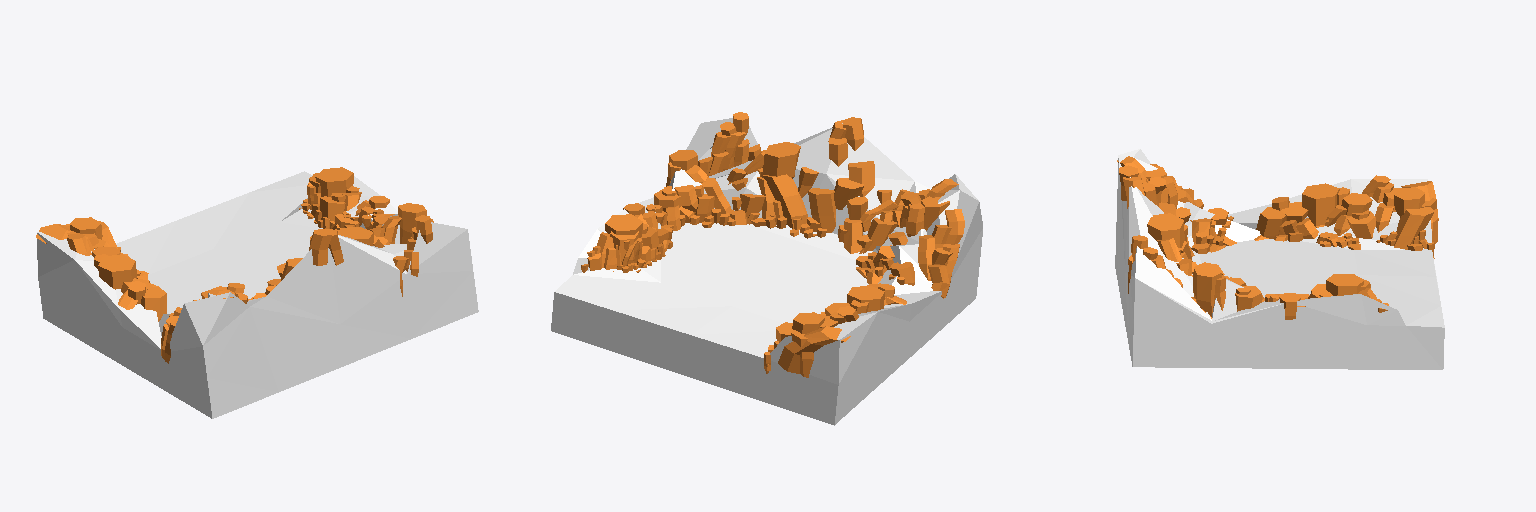
3 views of the same model, side by side, from view 1: azimuth 30°, elevation 25°; view 2: azimuth 150°, elevation 25°; view 3: azimuth 270°, elevation 25° (orthographic).
Parts seen in each view (by area): view 1: group[number redacted], group[number redacted], group[number redacted], group[number redacted], group[number redacted], group[number redacted]; view 2: group[number redacted], group[number redacted], group[number redacted], group[number redacted], group[number redacted], group[number redacted], group[number redacted], group[number redacted], group[number redacted], group[number redacted], group[number redacted], group[number redacted] (+2 smaller); view 3: group[number redacted], group[number redacted], group[number redacted], group[number redacted], group[number redacted], group[number redacted], group[number redacted], group[number redacted], group[number redacted].
Part boxes in pixels (left/top/right/bottom): group[number redacted]: left=37, top=171, right=478, bottom=418; group[number redacted]: left=98, top=254, right=136, bottom=289; group[number redacted]: left=315, top=167, right=353, bottom=197; group[number redacted]: left=398, top=203, right=426, bottom=243; group[number redacted]: left=309, top=229, right=332, bottom=265; group[number redacted]: left=141, top=287, right=166, bottom=321; group[number redacted]: left=551, top=118, right=982, bottom=425; group[number redacted]: left=778, top=326, right=850, bottom=373; group[number redacted]: left=763, top=174, right=807, bottom=228; group[number redacted]: left=865, top=245, right=914, bottom=285; group[number redacted]: left=762, top=142, right=800, bottom=178; group[number redacted]: left=808, top=188, right=835, bottom=232; group[number redacted]: left=844, top=218, right=872, bottom=253; group[number redacted]: left=847, top=286, right=884, bottom=311; group[number redacted]: left=605, top=214, right=642, bottom=237; group[number redacted]: left=848, top=161, right=874, bottom=196; group[number redacted]: left=834, top=178, right=863, bottom=209; group[number redacted]: left=867, top=218, right=897, bottom=250; group[number redacted]: left=1115, top=149, right=1444, bottom=369; group[number redacted]: left=1302, top=183, right=1339, bottom=227; group[number redacted]: left=1193, top=262, right=1221, bottom=316; group[number redacted]: left=1394, top=207, right=1434, bottom=249; group[number redacted]: left=1190, top=208, right=1233, bottom=246; group[number redacted]: left=1147, top=213, right=1184, bottom=254; group[number redacted]: left=1326, top=274, right=1363, bottom=295; group[number redacted]: left=1394, top=187, right=1424, bottom=217; group[number redacted]: left=1256, top=207, right=1285, bottom=238.
Bounding box in the file's own units: 1.61 × 0.8484 × 1.55.